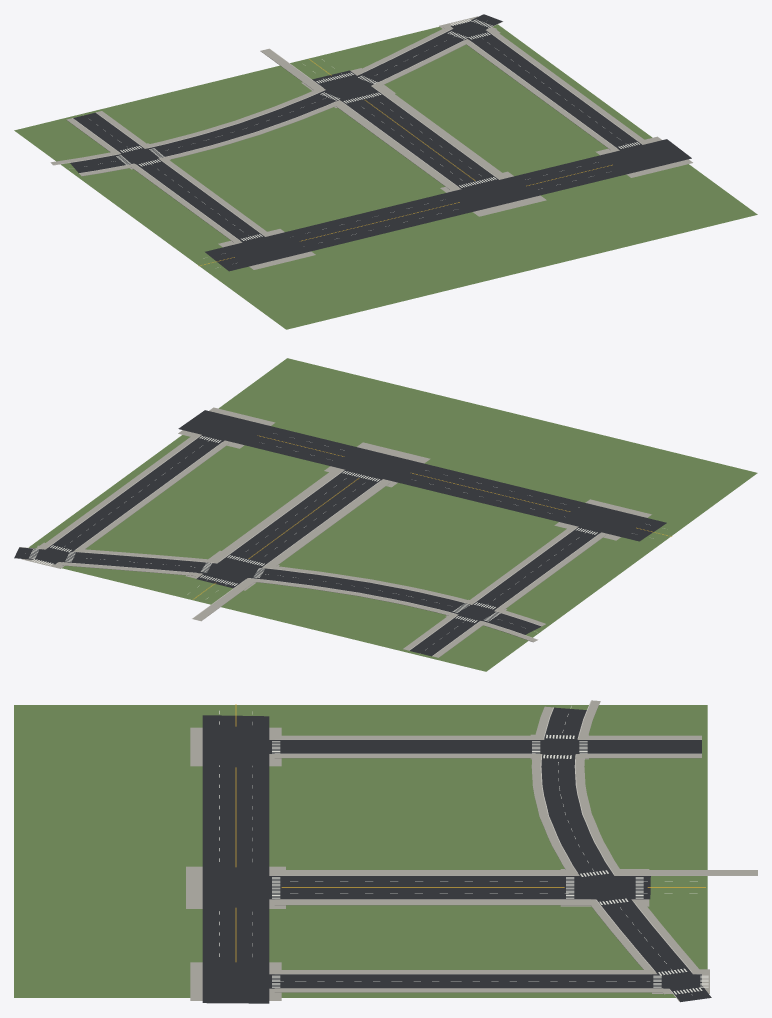
The model's file is Ground_2_0.fbx.
The picture shows the model from 3 angles, top to bottom: view 1: azimuth 30°, elevation 25°; view 2: azimuth 150°, elevation 25°; view 3: azimuth 270°, elevation 25°; orthographic projection. The views are drawn at different scales.
Visible parts, largest first — view 1: Ground_2_0; view 2: Ground_2_0; view 3: Ground_2_0.
Boxes of the visible parts, x1,y1,x2,y2 form: Ground_2_0: (14,14,757,329); Ground_2_0: (14,358,757,671); Ground_2_0: (14,700,757,1003).
Size of the model in its own units: 258 by 0.14 by 268.
